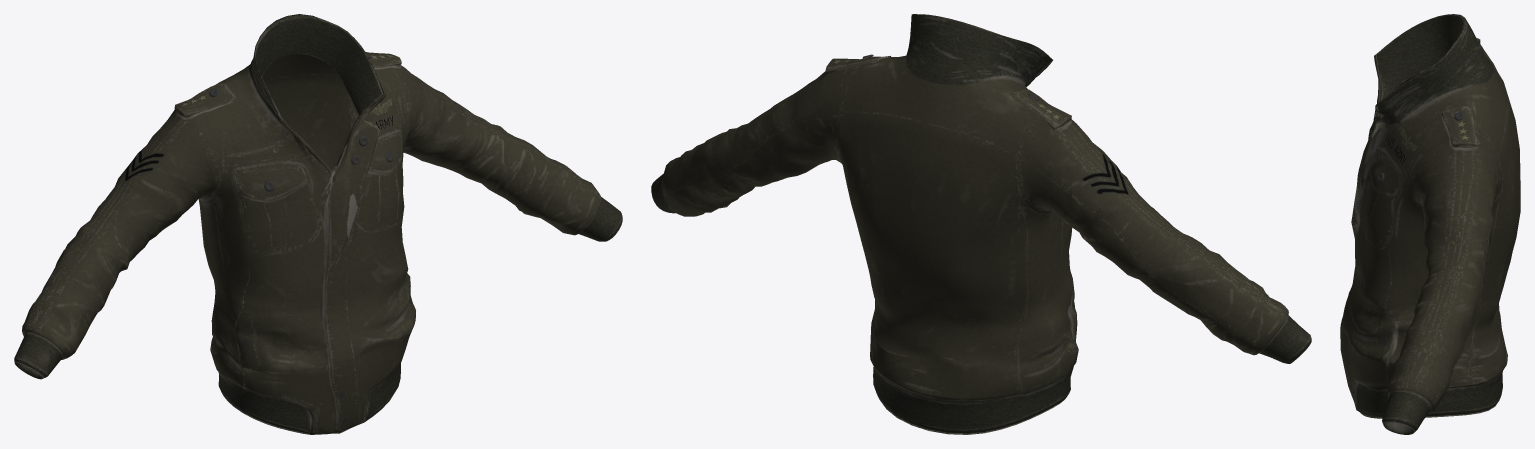
File: game_res_us_army_jacket.glb
The picture shows the model from 3 angles, left to right: view 1: azimuth 30°, elevation 25°; view 2: azimuth 150°, elevation 25°; view 3: azimuth 270°, elevation 25°; orthographic projection. The views are drawn at different scales.
Parts seen in each view (by area): view 1: jacket_low; view 2: jacket_low; view 3: jacket_low.
Boxes of the visible parts, box(x1,y1,x2,y2) form: jacket_low: box(14, 14, 622, 434); jacket_low: box(651, 14, 1311, 434); jacket_low: box(1340, 14, 1520, 434).
Bounding box in the file's own units: 2 × 1.2 × 0.5119.
Materials: 1 (1 with a texture image).
